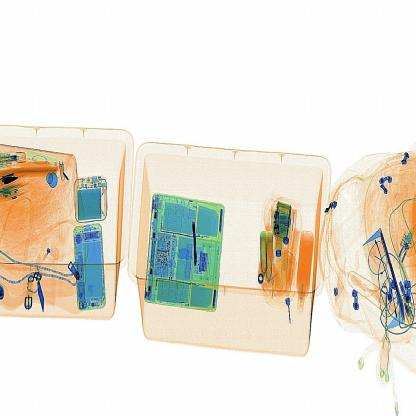knife: (186, 217, 206, 269)
